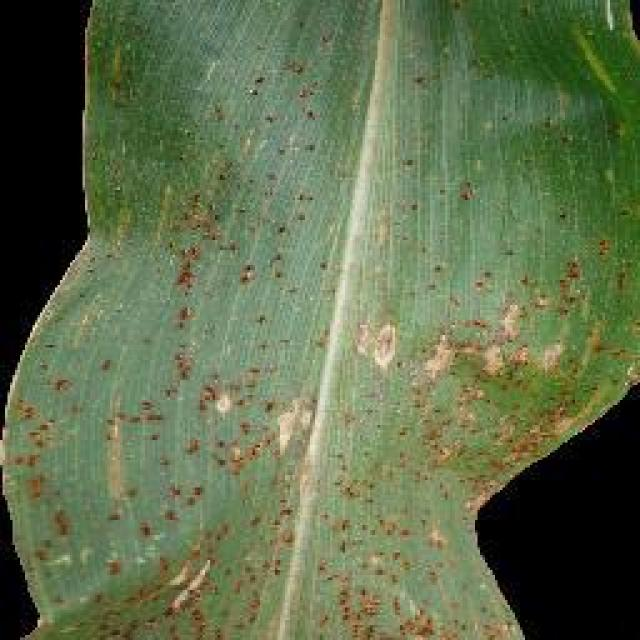Corn Common Rust: (85, 97, 575, 600)
